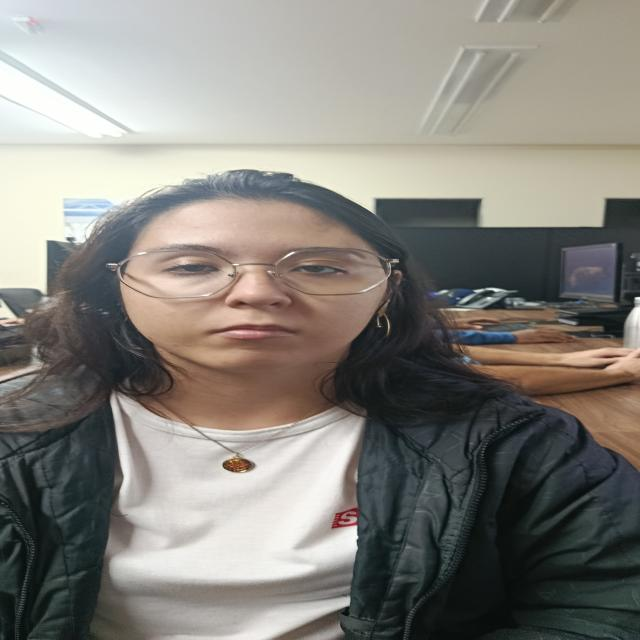sem_oculos: (108, 247, 394, 299)
